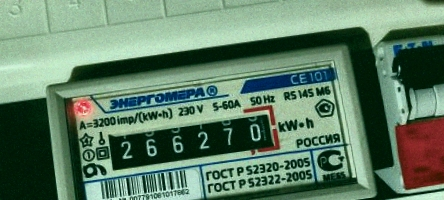0: (247, 120, 262, 142)
2: (117, 138, 134, 160), (194, 128, 211, 150)
6: (143, 135, 158, 158), (170, 132, 185, 154)
7: (220, 125, 234, 145)
screen: (97, 100, 286, 177)
